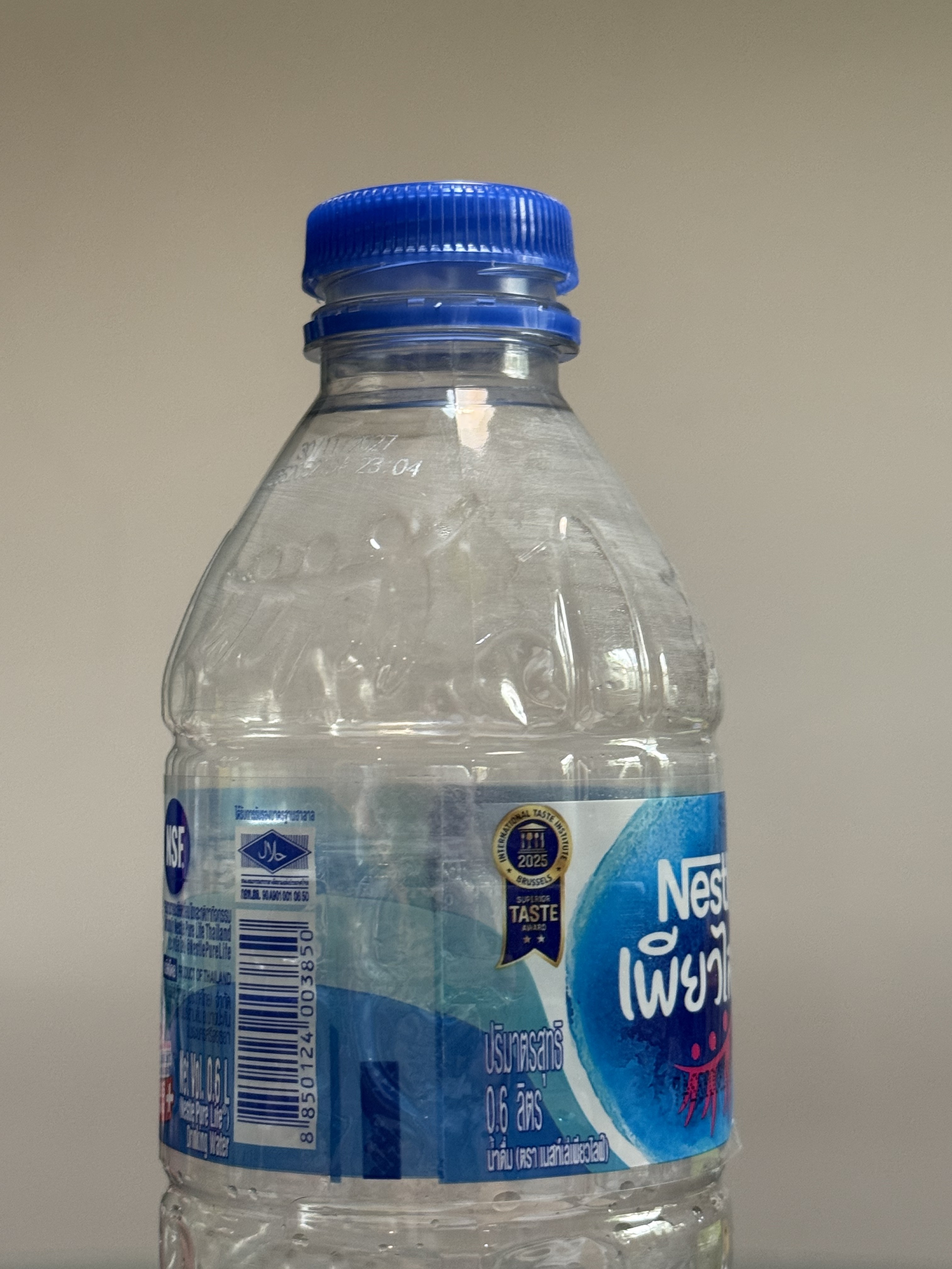half_cap: (291, 172, 588, 361)
